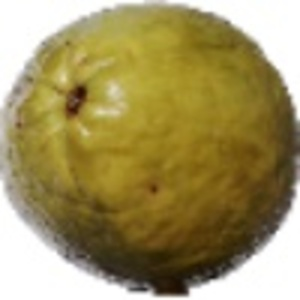goiaba: (2, 3, 298, 284)
